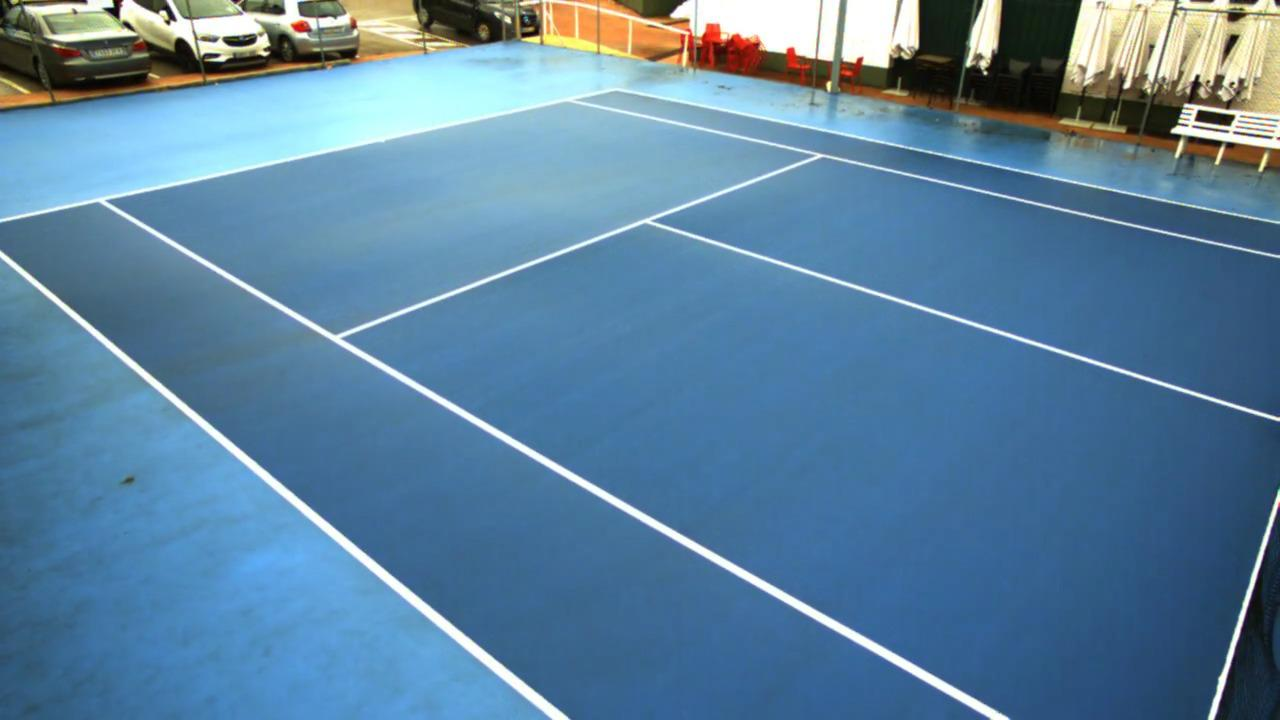cancha_tenis: (98, 99, 1280, 720)
point_f1: (90, 189, 121, 215)
point_f2: (560, 86, 591, 112)
point_fc1: (371, 130, 395, 155)
point_i1: (315, 323, 355, 350)
point_i2: (800, 143, 834, 167)
point_ic1: (639, 205, 672, 232)
